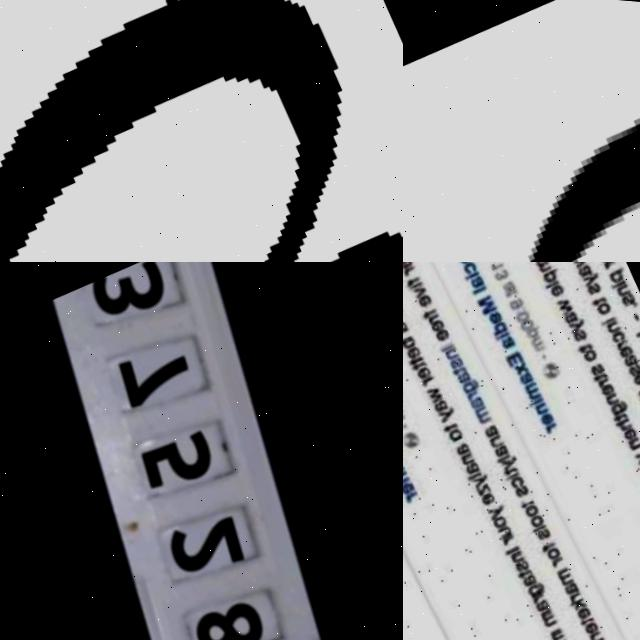0: (518, 308, 537, 326), (513, 301, 532, 318)
1: (487, 262, 504, 266)
2: (146, 483, 267, 595)
3: (73, 262, 185, 339), (492, 262, 511, 277)
5: (113, 396, 238, 509)
7: (94, 314, 216, 427)
8: (169, 565, 292, 640)
9: (507, 288, 526, 305)
A: (0, 0, 403, 262)
D: (403, 8, 640, 262)
